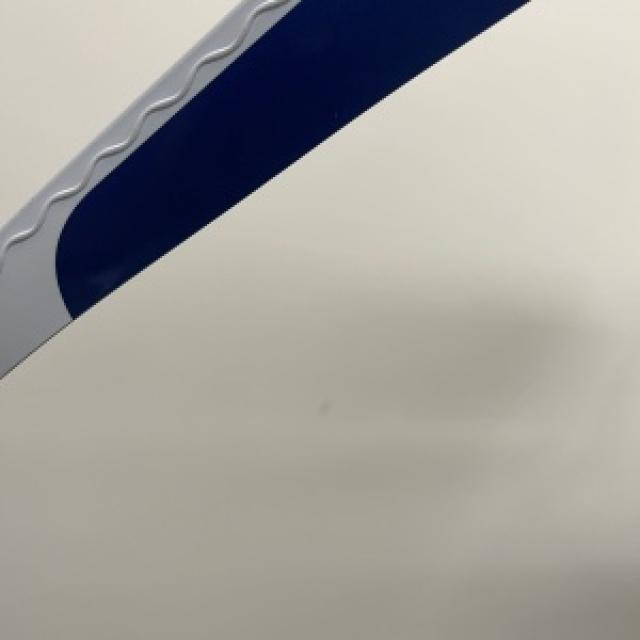healthy: (0, 0, 638, 638), (0, 0, 523, 375), (0, 0, 235, 222)
